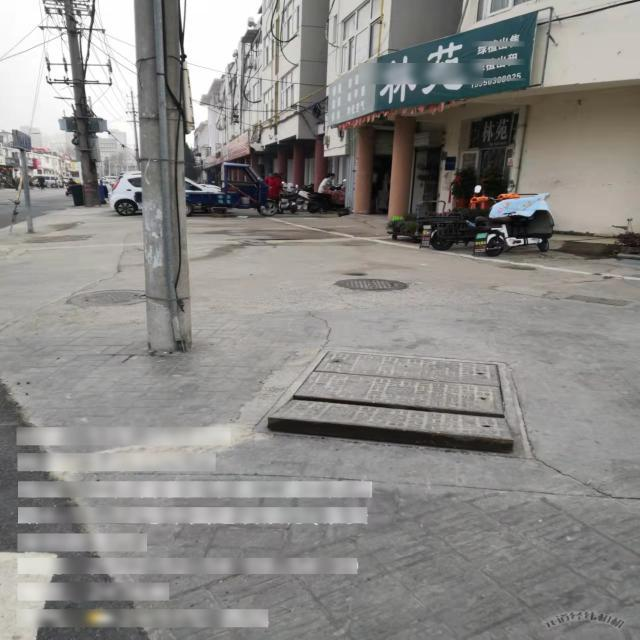Faulty: (250, 346, 522, 456)
Good: (331, 276, 413, 294)
